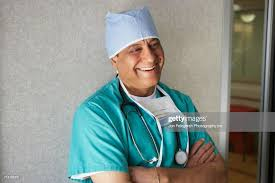Indian_Male: (104, 23, 167, 87)
